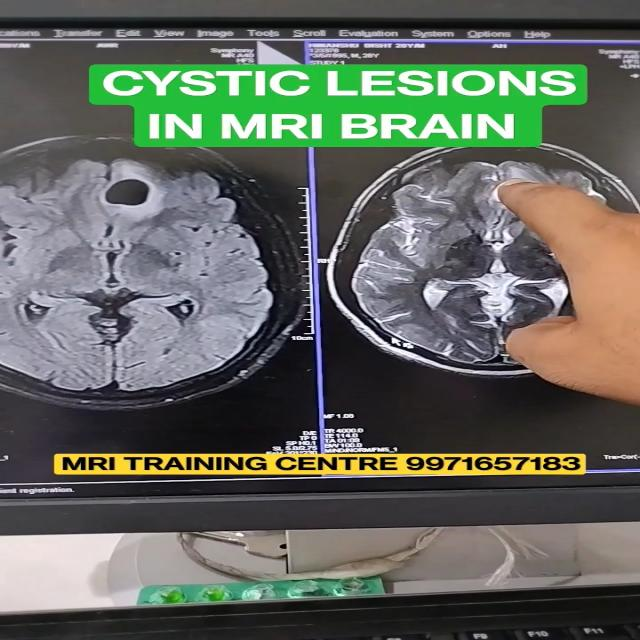tumor: (93, 160, 182, 234)
